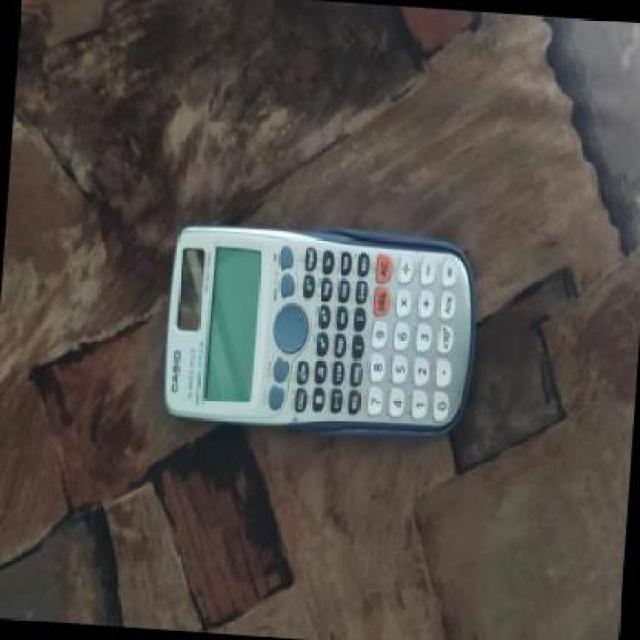Calculator: (153, 205, 490, 447)
